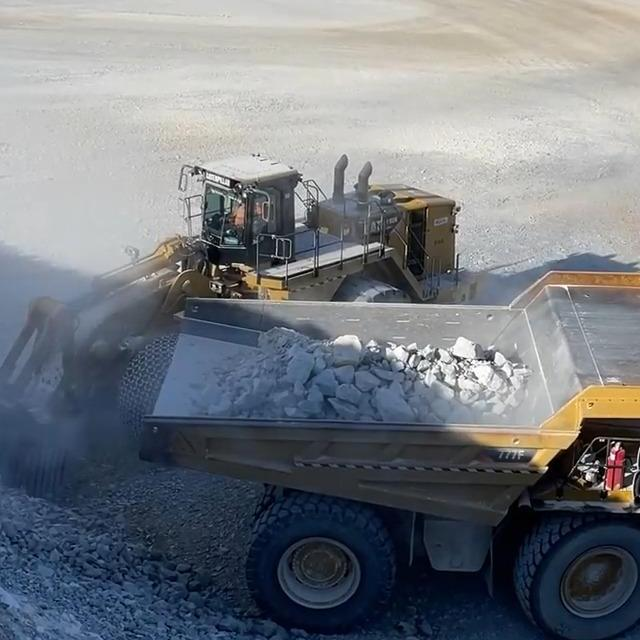Person: (228, 198, 264, 229)
Safety Vest: (231, 203, 264, 228)
dump truck: (132, 265, 640, 640)
wheel loader: (0, 147, 464, 491)
